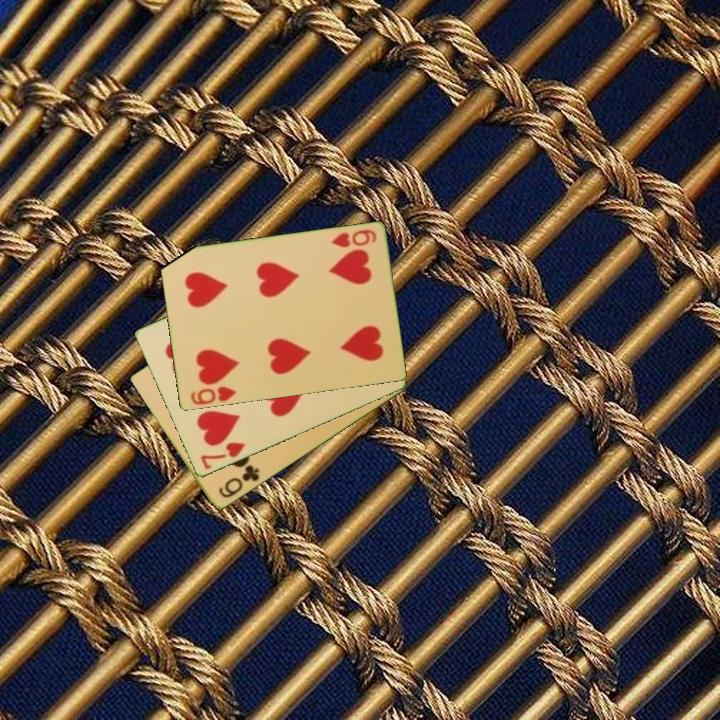6c: (215, 462, 263, 501)
6h: (187, 383, 239, 408), (327, 226, 379, 251)
7h: (197, 439, 248, 473)
